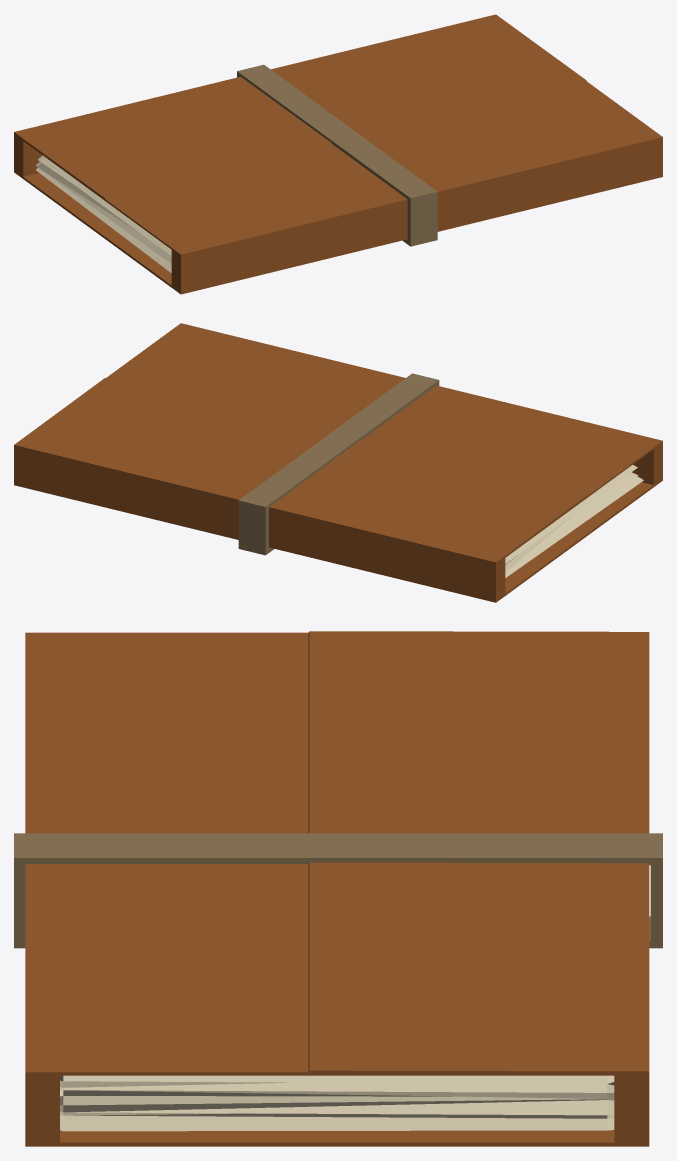
The model's file is journal.fbx.
3 renders of one model, top to bottom at view 1: azimuth 30°, elevation 25°; view 2: azimuth 150°, elevation 25°; view 3: azimuth 270°, elevation 25°, orthographic. The views are drawn at different scales.
Visible parts, largest first — view 1: Cube, Cube.002, Cube.003; view 2: Cube, Cube.002, Cube.003; view 3: Cube, Cube.003, Cube.002.
Boxes of the visible parts, left/top/right/bottom form: Cube: left=14, top=14, right=662, bottom=294; Cube.002: left=237, top=64, right=437, bottom=246; Cube.003: left=36, top=155, right=171, bottom=272; Cube: left=14, top=323, right=662, bottom=602; Cube.002: left=238, top=373, right=439, bottom=555; Cube.003: left=505, top=465, right=643, bottom=577; Cube: left=25, top=631, right=649, bottom=1146; Cube.003: left=60, top=1075, right=614, bottom=1131; Cube.002: left=14, top=833, right=662, bottom=948.
Size of the model in its own units: 500 by 48 by 312.
